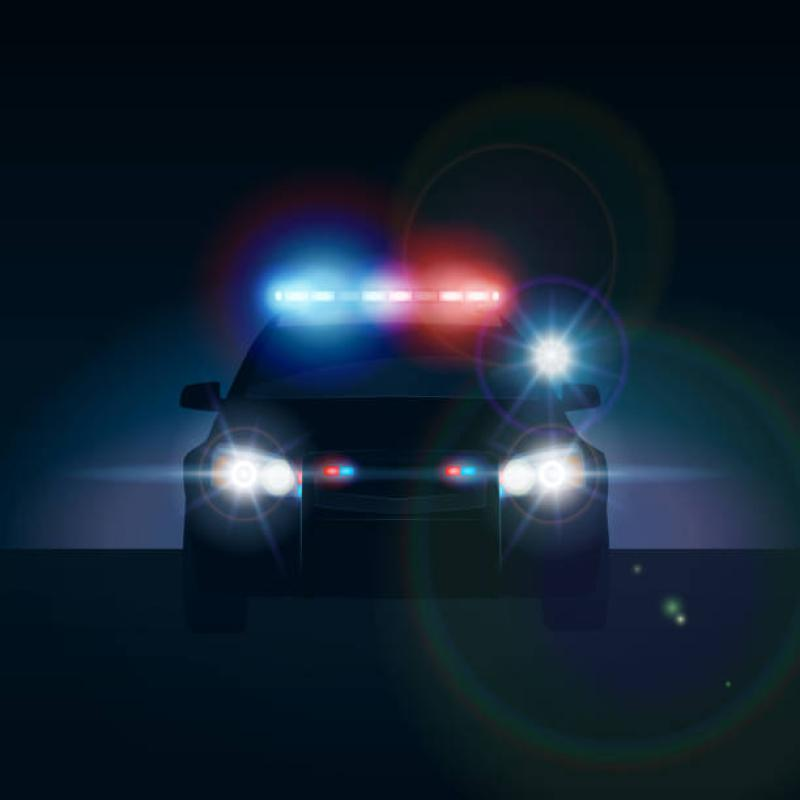AmbulanceSiren: (248, 258, 564, 318)
